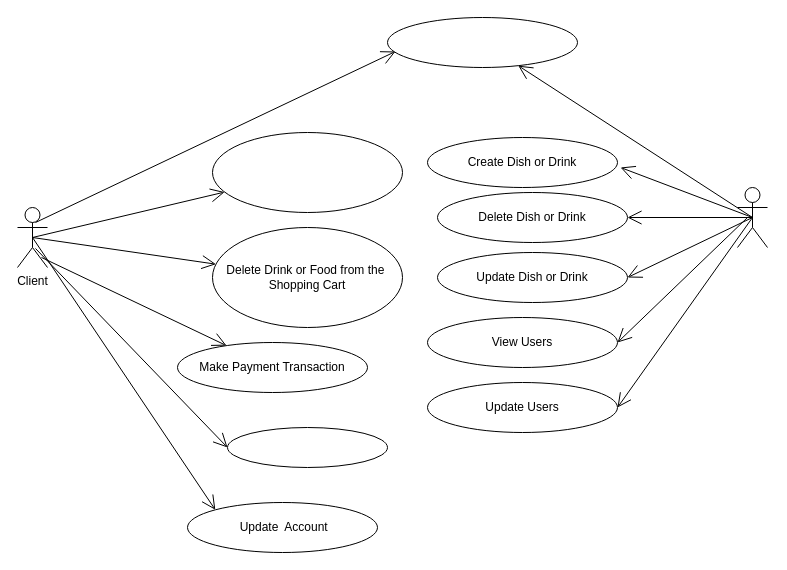
The diagram is 787 pixels wide and 570 high, and some of its shapes have lost their labels. The centre of each missing label's shape, as x and y in pixels:
Add Drink or Food to Shopping Cart: (x=307, y=172)
Admin: (x=752, y=217)
Create an Account: (x=307, y=447)
View Invoices: (x=482, y=42)
